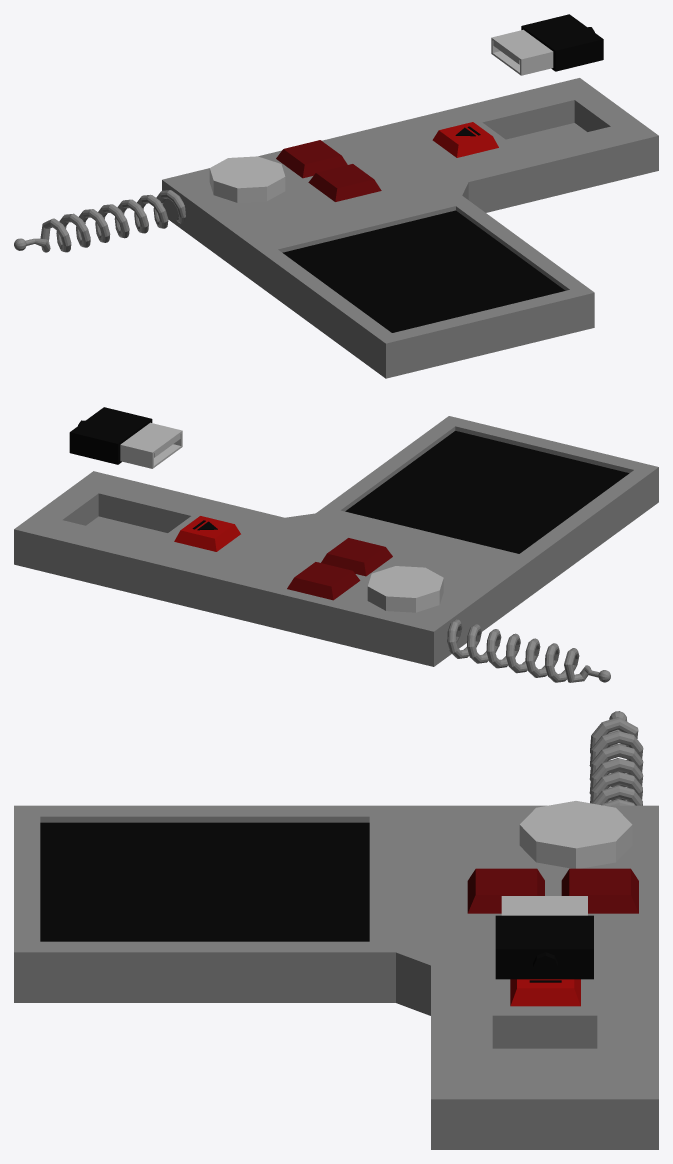
File: cossin pirateur.fbx
3 views of the same model, one above another, from view 1: azimuth 30°, elevation 25°; view 2: azimuth 150°, elevation 25°; view 3: azimuth 270°, elevation 25° (orthographic). The views are drawn at different scales.
Parts seen in each view (by area): view 1: gadget_mainbody, dongle, antenna, Cylinder.002, Cube.002, Cube.001, ejectButtonBase; view 2: gadget_mainbody, dongle, antenna, Cylinder.002, Cube.001, Cube.002, ejectButtonBase; view 3: gadget_mainbody, dongle, Cylinder.002, antenna, Cube.001, Cube.002, ejectButtonBase.
Part boxes in pixels (x1,y1,x2,y2): gadget_mainbody: (162,78,658,378); dongle: (491,14,603,75); antenna: (14,190,185,252); Cylinder.002: (209,156,285,202); Cube.002: (308,164,381,201); Cube.001: (276,140,347,178); ejectButtonBase: (432,122,498,157); gadget_mainbody: (14,416,658,666); dongle: (69,407,182,468); antenna: (447,619,610,682); Cylinder.002: (367,566,443,612); Cube.001: (287,562,360,600); Cube.002: (321,538,392,576); ejectButtonBase: (174,516,240,551); gadget_mainbody: (14,805,658,1149); dongle: (495,896,593,979); Cylinder.002: (519,801,632,868); antenna: (589,711,643,805); Cube.001: (561,868,638,913); Cube.002: (467,868,544,913); ejectButtonBase: (510,979,580,1006).
Size of the model in its own units: 268 by 54.47 by 179.
